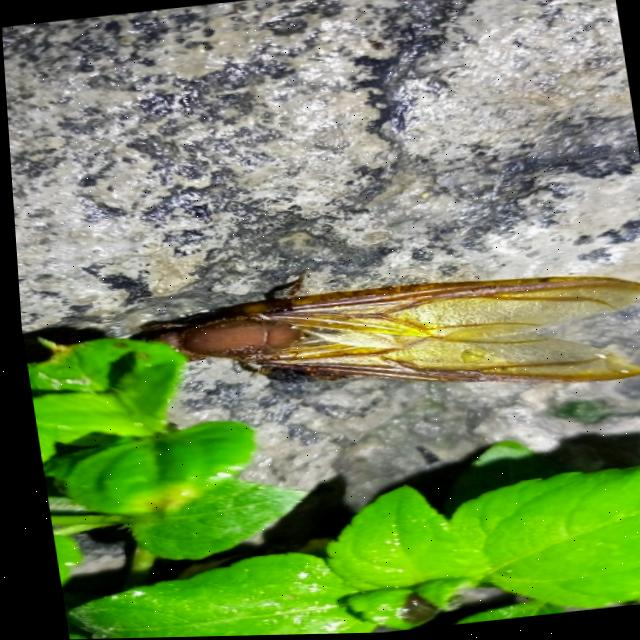Alive-Female-Alate: (122, 232, 640, 431)
